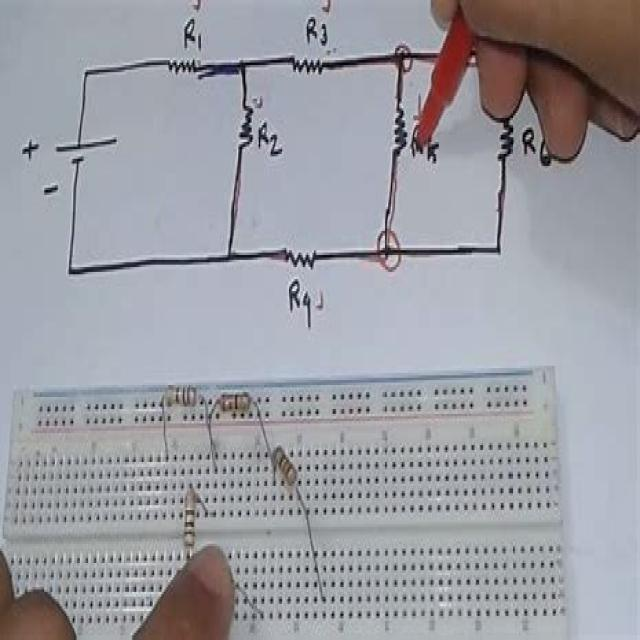Capacitor Electrolitico: (163, 380, 201, 410), (274, 442, 298, 488), (218, 389, 253, 416), (184, 482, 198, 548)
